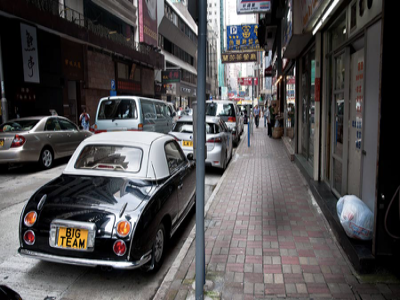licence: (54, 227, 91, 255)
